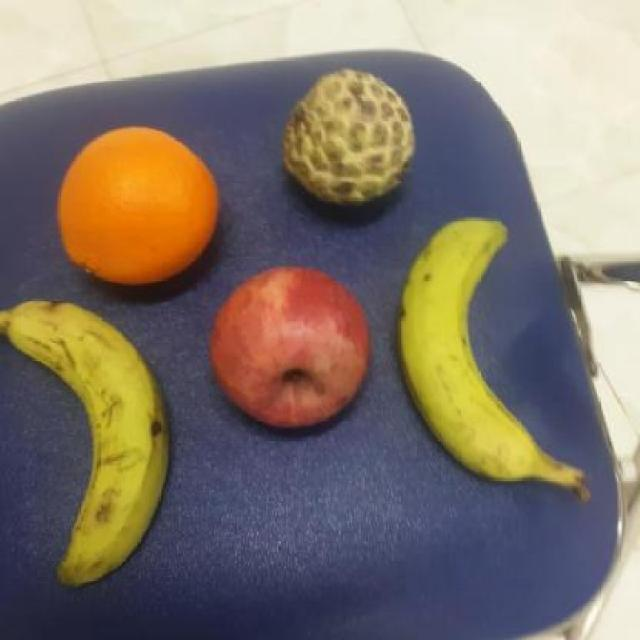apple: (208, 263, 377, 434)
banana: (15, 297, 173, 588), (393, 210, 549, 484)
oren: (52, 125, 220, 289)
sugar apple: (280, 66, 422, 212)
